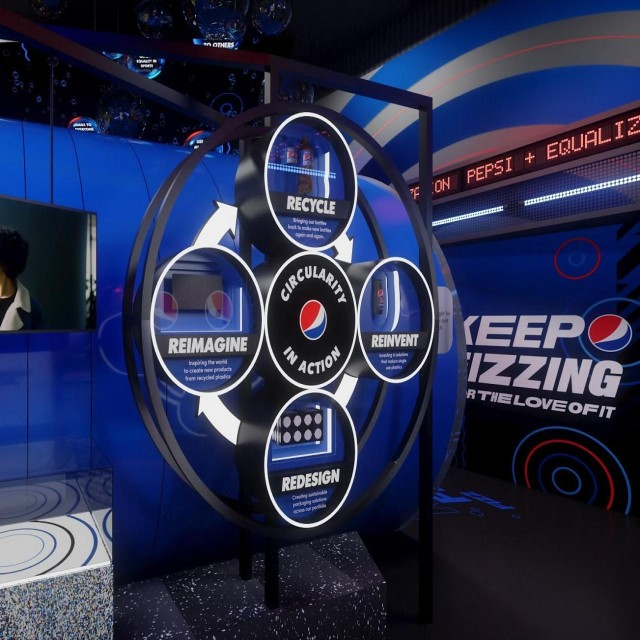pepsi: (584, 310, 633, 356), (292, 297, 337, 345), (202, 287, 236, 333)
